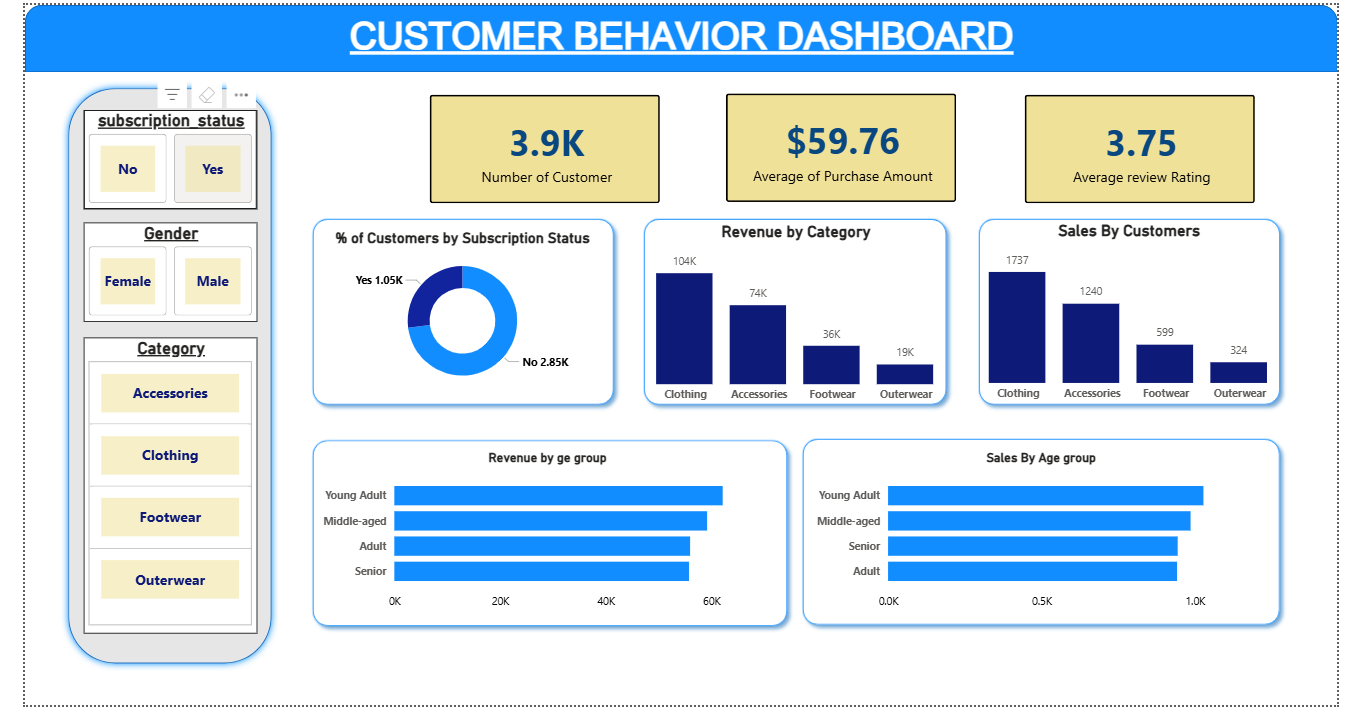

The dashboard page shown, as its layout file describes it:
{"tool":"powerbi","page":{"name":"Page 1","canvas":[1500,800],"ordinal":0},"visuals":[{"type":"cardVisual","fields":{"Data":["customer_data customer.Number of Customer"]},"box":[445.7,85.9,297.3,158.8],"z":0},{"type":"shape","box":[0,0,1500,76.7],"z":1000},{"type":"textbox","box":[843,176,437,150],"z":2000},{"type":"textbox","box":[196.7,0,1106.7,90],"z":3000},{"type":"cardVisual","fields":{"Data":["customer_data customer.Average of Purchase Amount"]},"box":[784.9,84.5,297.3,158.8],"z":4000},{"type":"cardVisual","fields":{"Data":["customer_data customer.Average review Rating"]},"box":[1125.6,85.9,297.3,158.8],"z":5000},{"type":"shape","box":[320,235,361.7,230],"z":6000},{"type":"donutChart","title":"% of Customers by Subscription Status","fields":{"Y":["CountNonNull(customer_data customer.subscription_status)"],"Category":["customer_data customer.subscription_status"]},"box":[335,255,331.7,191.7],"z":7000},{"type":"shape","box":[698.3,235,363.3,230],"z":8000},{"type":"shape","box":[1081.7,235,361.7,230],"z":9000},{"type":"clusteredColumnChart","title":"Revenue by Category","fields":{"Y":["Sum(customer_data customer.purchase_amount)"],"Category":["customer_data customer.category"]},"box":[683.3,248.3,396.7,215],"z":10000},{"type":"clusteredColumnChart","title":"Sales By Customers","fields":{"Category":["customer_data customer.category"],"Y":["CountNonNull(customer_data customer.customer_id)"]},"box":[1063.3,246.7,398.3,215],"z":11000},{"type":"shape","box":[41.7,86.7,248.3,673.3],"z":12000},{"type":"advancedSlicerVisual","fields":{"Values":["customer_data customer.subscription_status"]},"box":[66.7,120,198.3,113.3],"z":13000},{"type":"advancedSlicerVisual","fields":{"Values":["customer_data customer.gender"]},"box":[66.7,248.3,198.3,113.3],"z":14000},{"type":"advancedSlicerVisual","fields":{"Values":["customer_data customer.category"]},"box":[66.7,380,198.3,338.3],"z":15000},{"type":"shape","box":[320,488.6,560,230],"z":16000},{"type":"clusteredBarChart","title":"Revenue by ge group","fields":{"Category":["customer_data customer.age_group"],"Y":["Sum(customer_data customer.purchase_amount)"]},"box":[334.3,508.6,525.7,191.4],"z":16001},{"type":"shape","box":[880,487.1,562.9,230],"z":16002},{"type":"clusteredBarChart","title":"Sales By Age group","fields":{"Category":["customer_data customer.age_group"],"Y":["CountNonNull(customer_data customer.customer_id)"]},"box":[898.6,508.6,525.7,191.4],"z":16003}]}

Visuals, with their boxes in screenshot pixels (x1, y1, x2, y2), scaled from the page's 1500x800 canvas onto the 1367x719 screenshot:
cardVisual - customer_data customer.Number of Customer: <box>406,77,677,220</box>
shape: <box>0,0,1366,69</box>
textbox: <box>768,158,1167,293</box>
textbox: <box>179,0,1188,81</box>
cardVisual - customer_data customer.Average of Purchase Amount: <box>715,76,986,219</box>
cardVisual - customer_data customer.Average review Rating: <box>1026,77,1297,220</box>
shape: <box>292,211,621,418</box>
"% of Customers by Subscription Status" donutChart: <box>305,229,608,401</box>
shape: <box>636,211,967,418</box>
shape: <box>986,211,1315,418</box>
"Revenue by Category" clusteredColumnChart: <box>623,223,984,416</box>
"Sales By Customers" clusteredColumnChart: <box>969,222,1332,415</box>
shape: <box>38,78,264,683</box>
advancedSlicerVisual - customer_data customer.subscription_status: <box>61,108,242,210</box>
advancedSlicerVisual - customer_data customer.gender: <box>61,223,242,325</box>
advancedSlicerVisual - customer_data customer.category: <box>61,342,242,646</box>
shape: <box>292,439,802,646</box>
"Revenue by ge group" clusteredBarChart: <box>305,457,784,629</box>
shape: <box>802,438,1315,644</box>
"Sales By Age group" clusteredBarChart: <box>819,457,1298,629</box>
